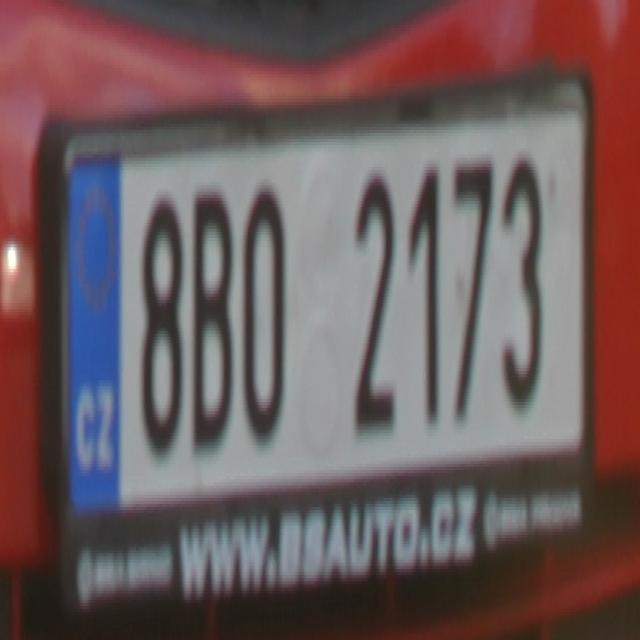0: (242, 180, 288, 446)
1: (403, 158, 439, 424)
2: (348, 158, 394, 440)
3: (500, 152, 546, 412)
7: (448, 151, 492, 430)
8: (139, 179, 184, 458)
B: (187, 180, 236, 452)
